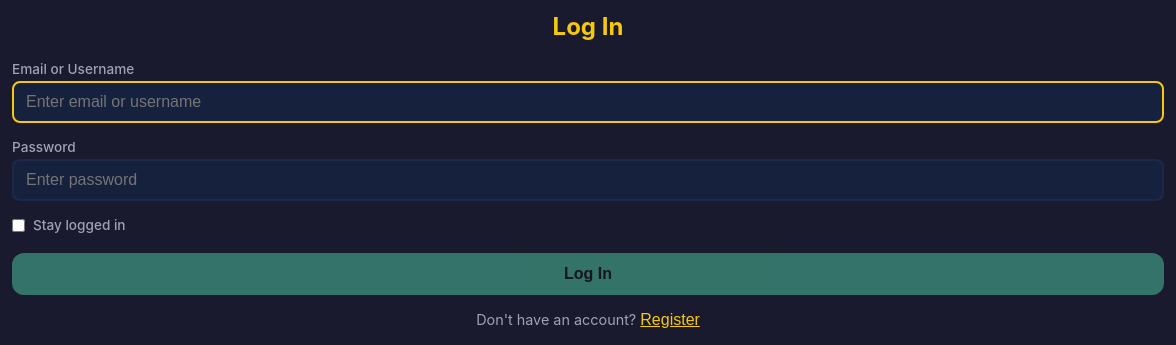
LoginForm › enables submit button when both fields have values
The image size is (1176, 345).
In the field labelled "Email or Username": [588, 102] box x1=12 y1=81 x2=1164 y2=123, type "testuser"
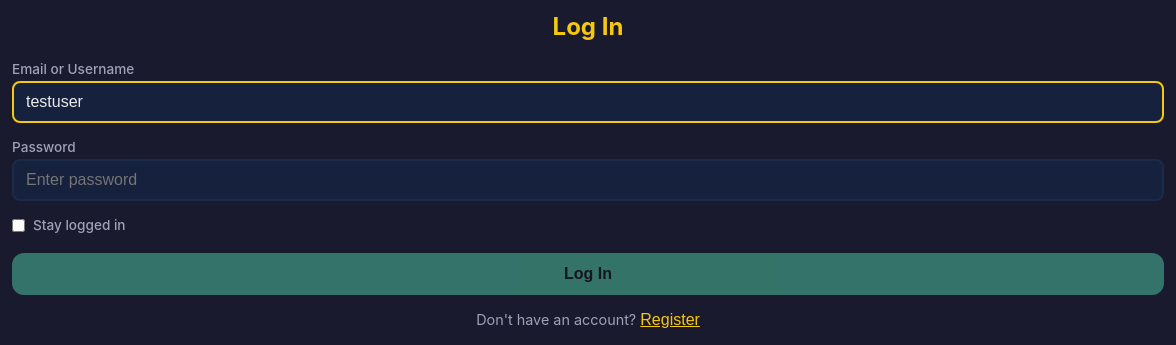
In the password field labelled "Password": [588, 180] box x1=12 y1=159 x2=1164 y2=201, type "password123!"
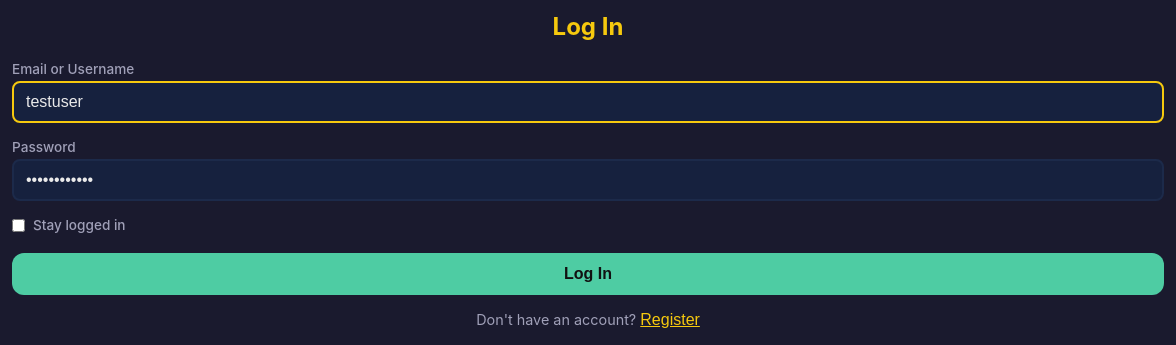
Expected: the button "Log In" is enabled, x1=12 y1=253 x2=1164 y2=295
